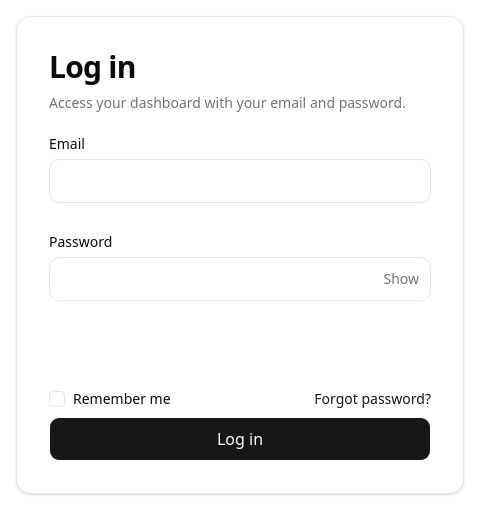
Test: routing and session flow › keeps failed login attempts on login
Type "wrong@example.com" into the field labelled "Email" at (240, 181), box 49,159 -> 431,203
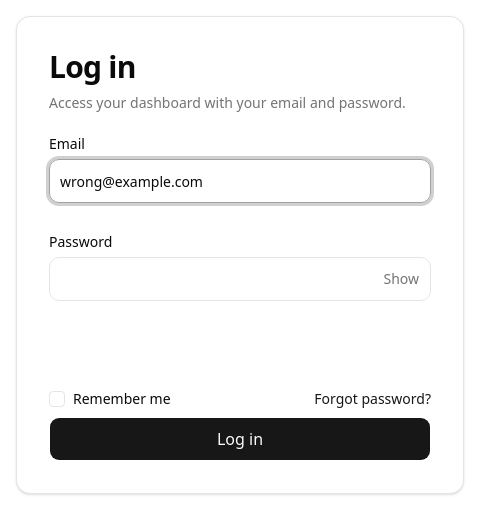
Type "password" into the password field labelled "Password" at (240, 279), box 49,257 -> 431,301
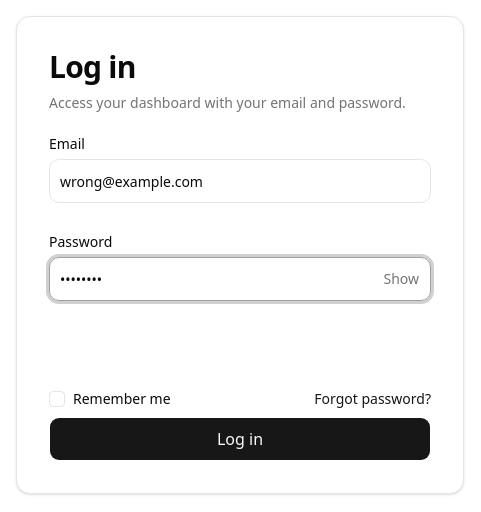
Click the button "Log in" at (240, 439), box 49,417 -> 431,461
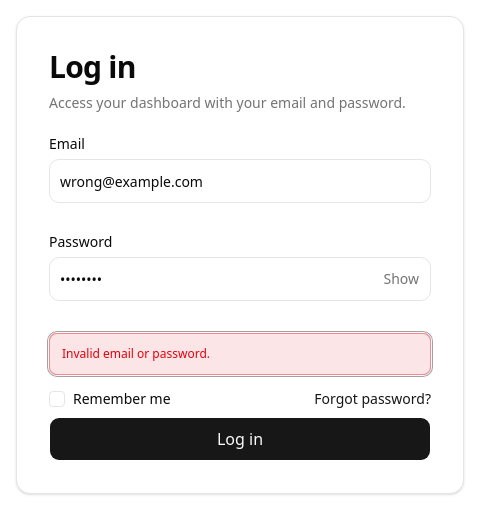
Expected: the heading "Log in" is shown, 49,46 -> 136,87
Expected: the message reads "Invalid email or password.", 62,345 -> 210,362
